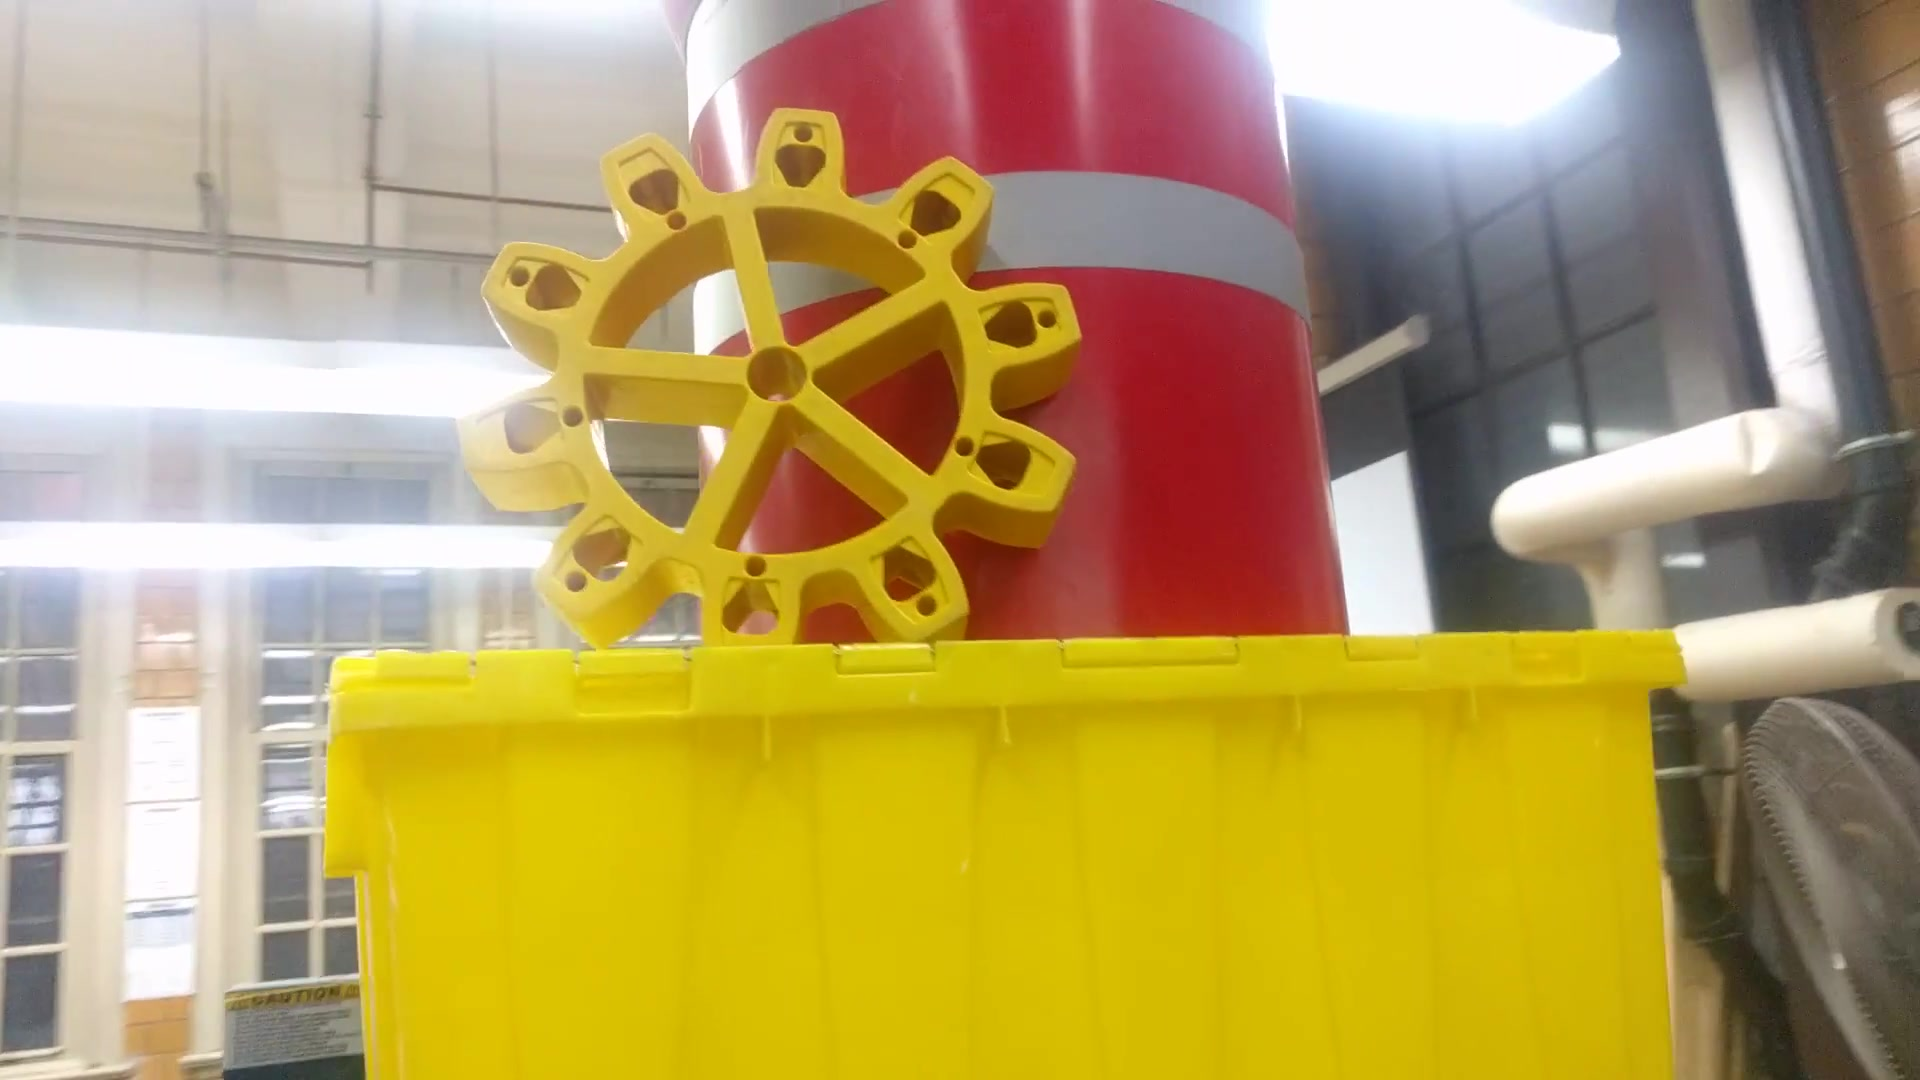gear: (444, 105, 1105, 665)
